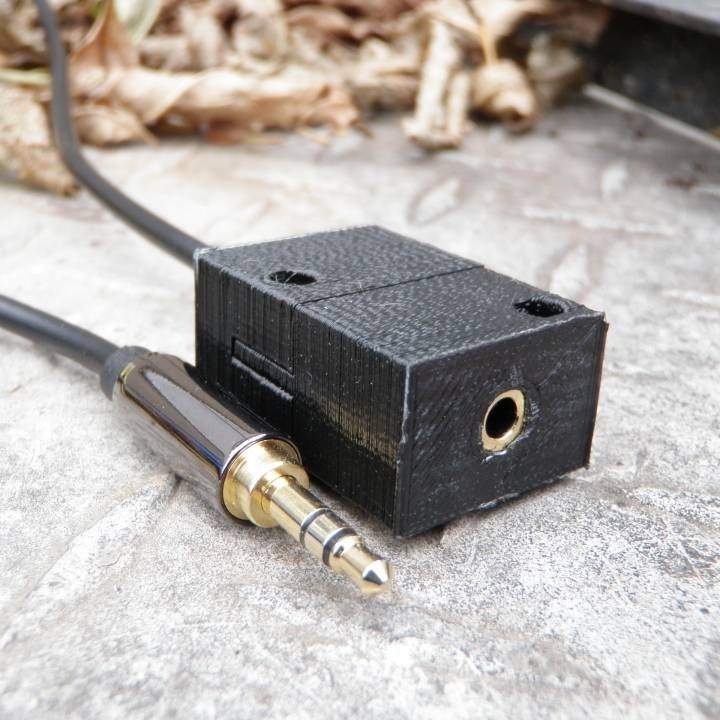3.5mm_audio: (226, 448, 393, 596), (477, 388, 529, 455)
